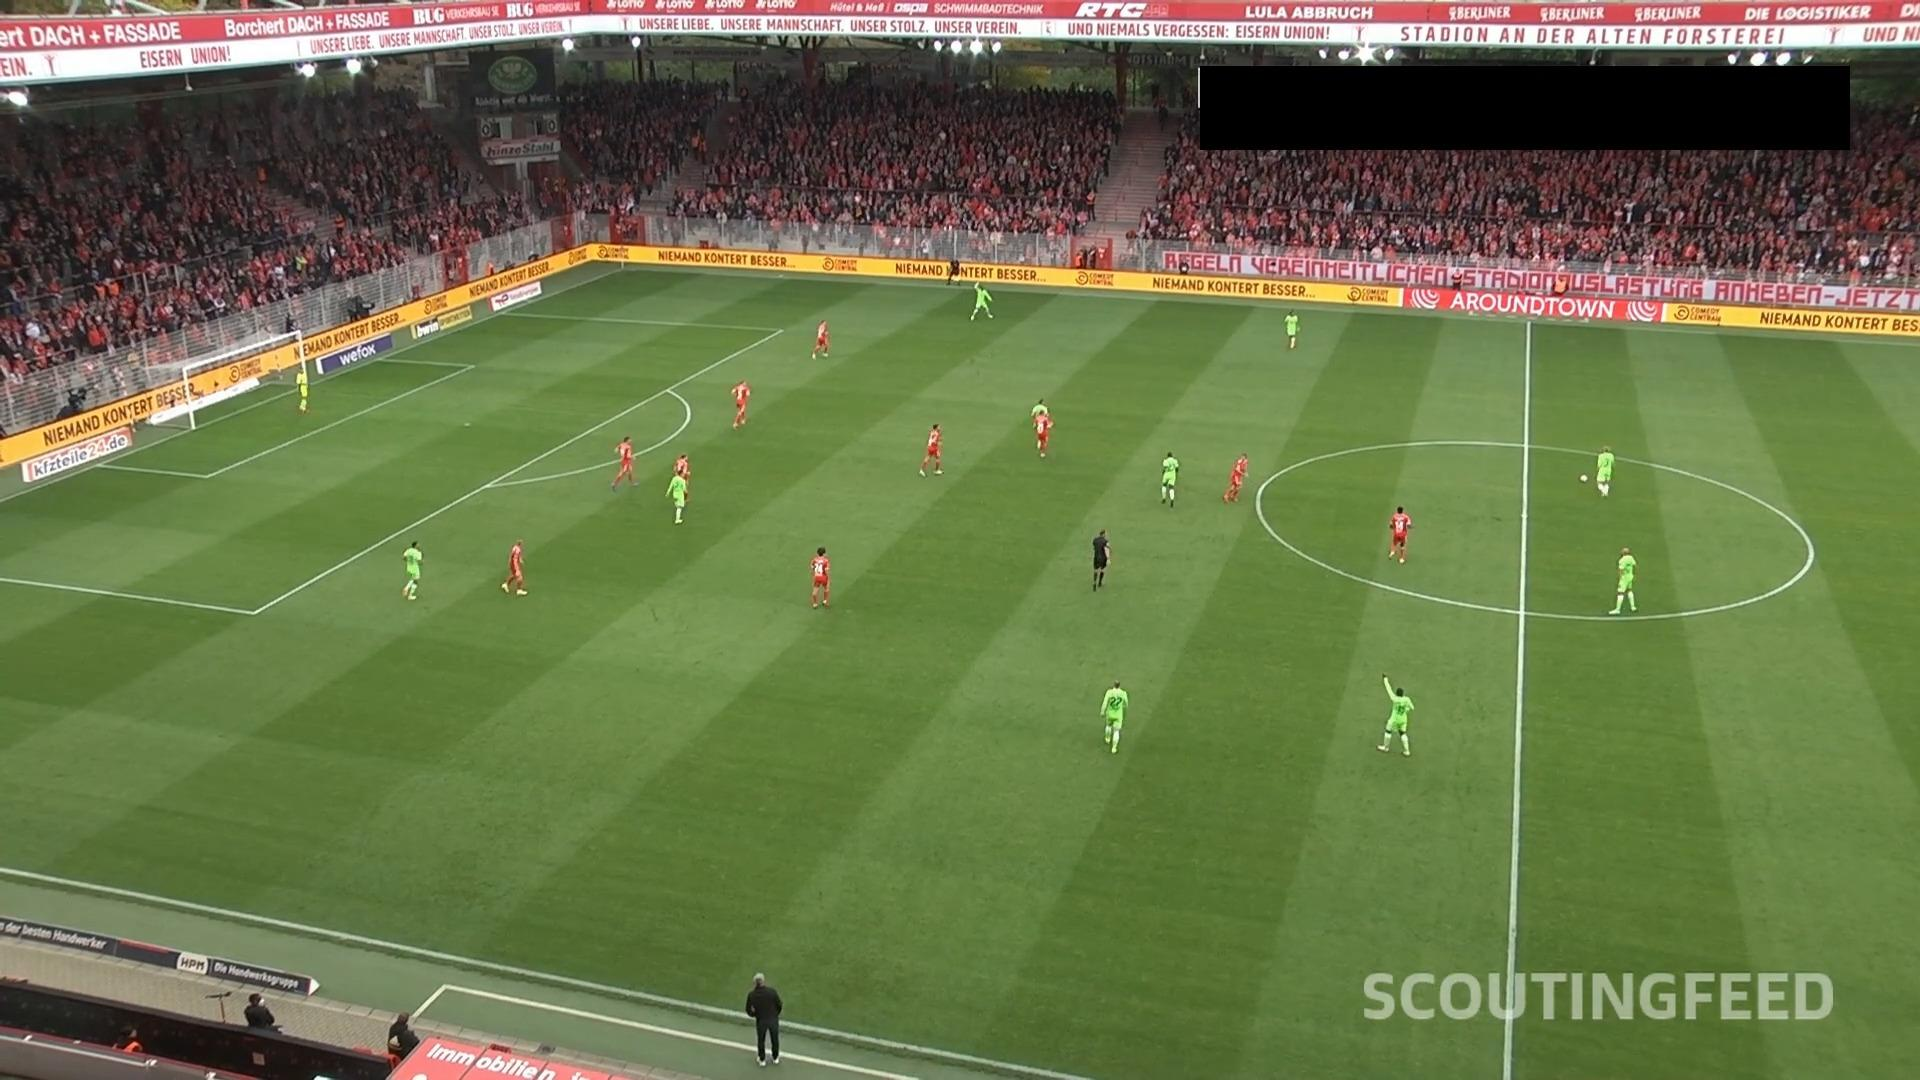ball: (1578, 472, 1589, 484)
